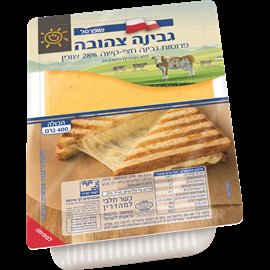Cheese: (34, 2, 237, 270)
